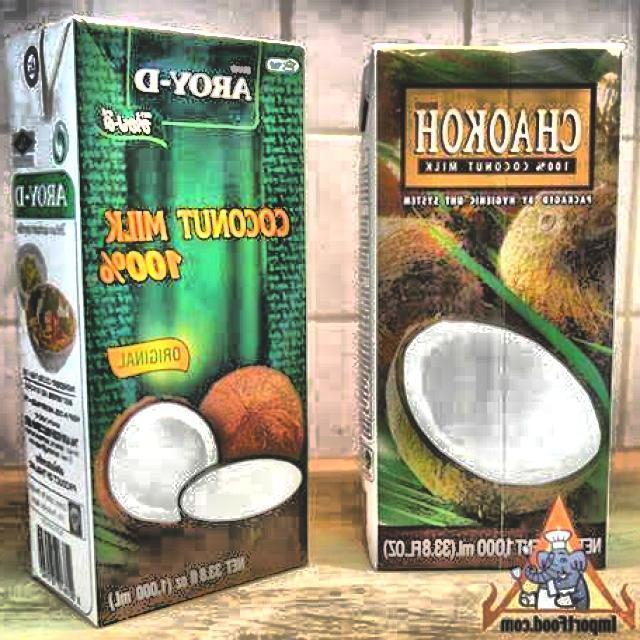cardboard: (6, 13, 310, 627), (359, 41, 626, 572)
